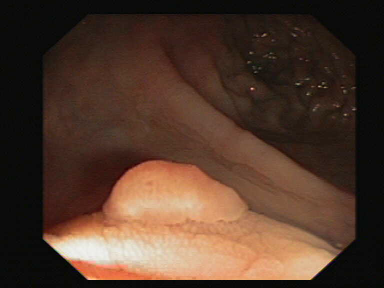polyp: (99, 139, 257, 251)
